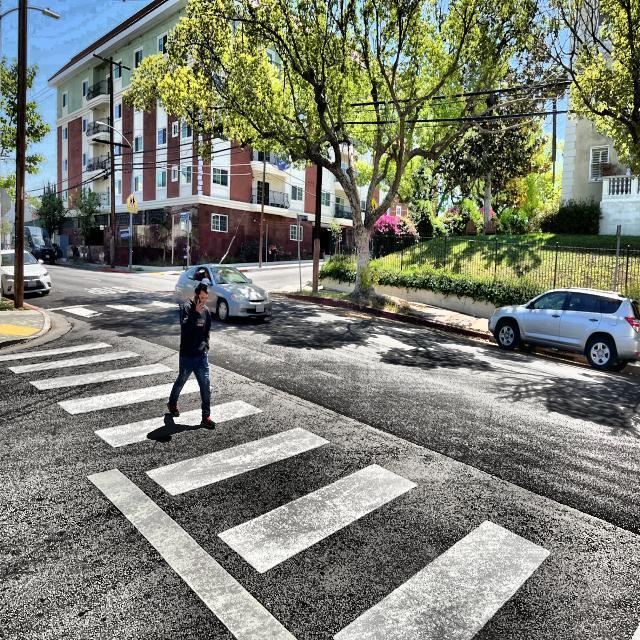crosswalk: (1, 336, 553, 640), (63, 295, 180, 321)
